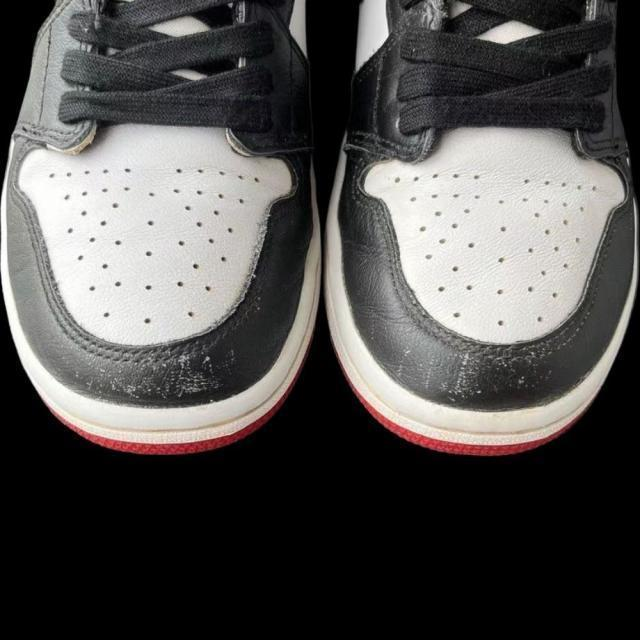nike original jordan 1: (312, 0, 638, 460), (5, 0, 322, 456)
